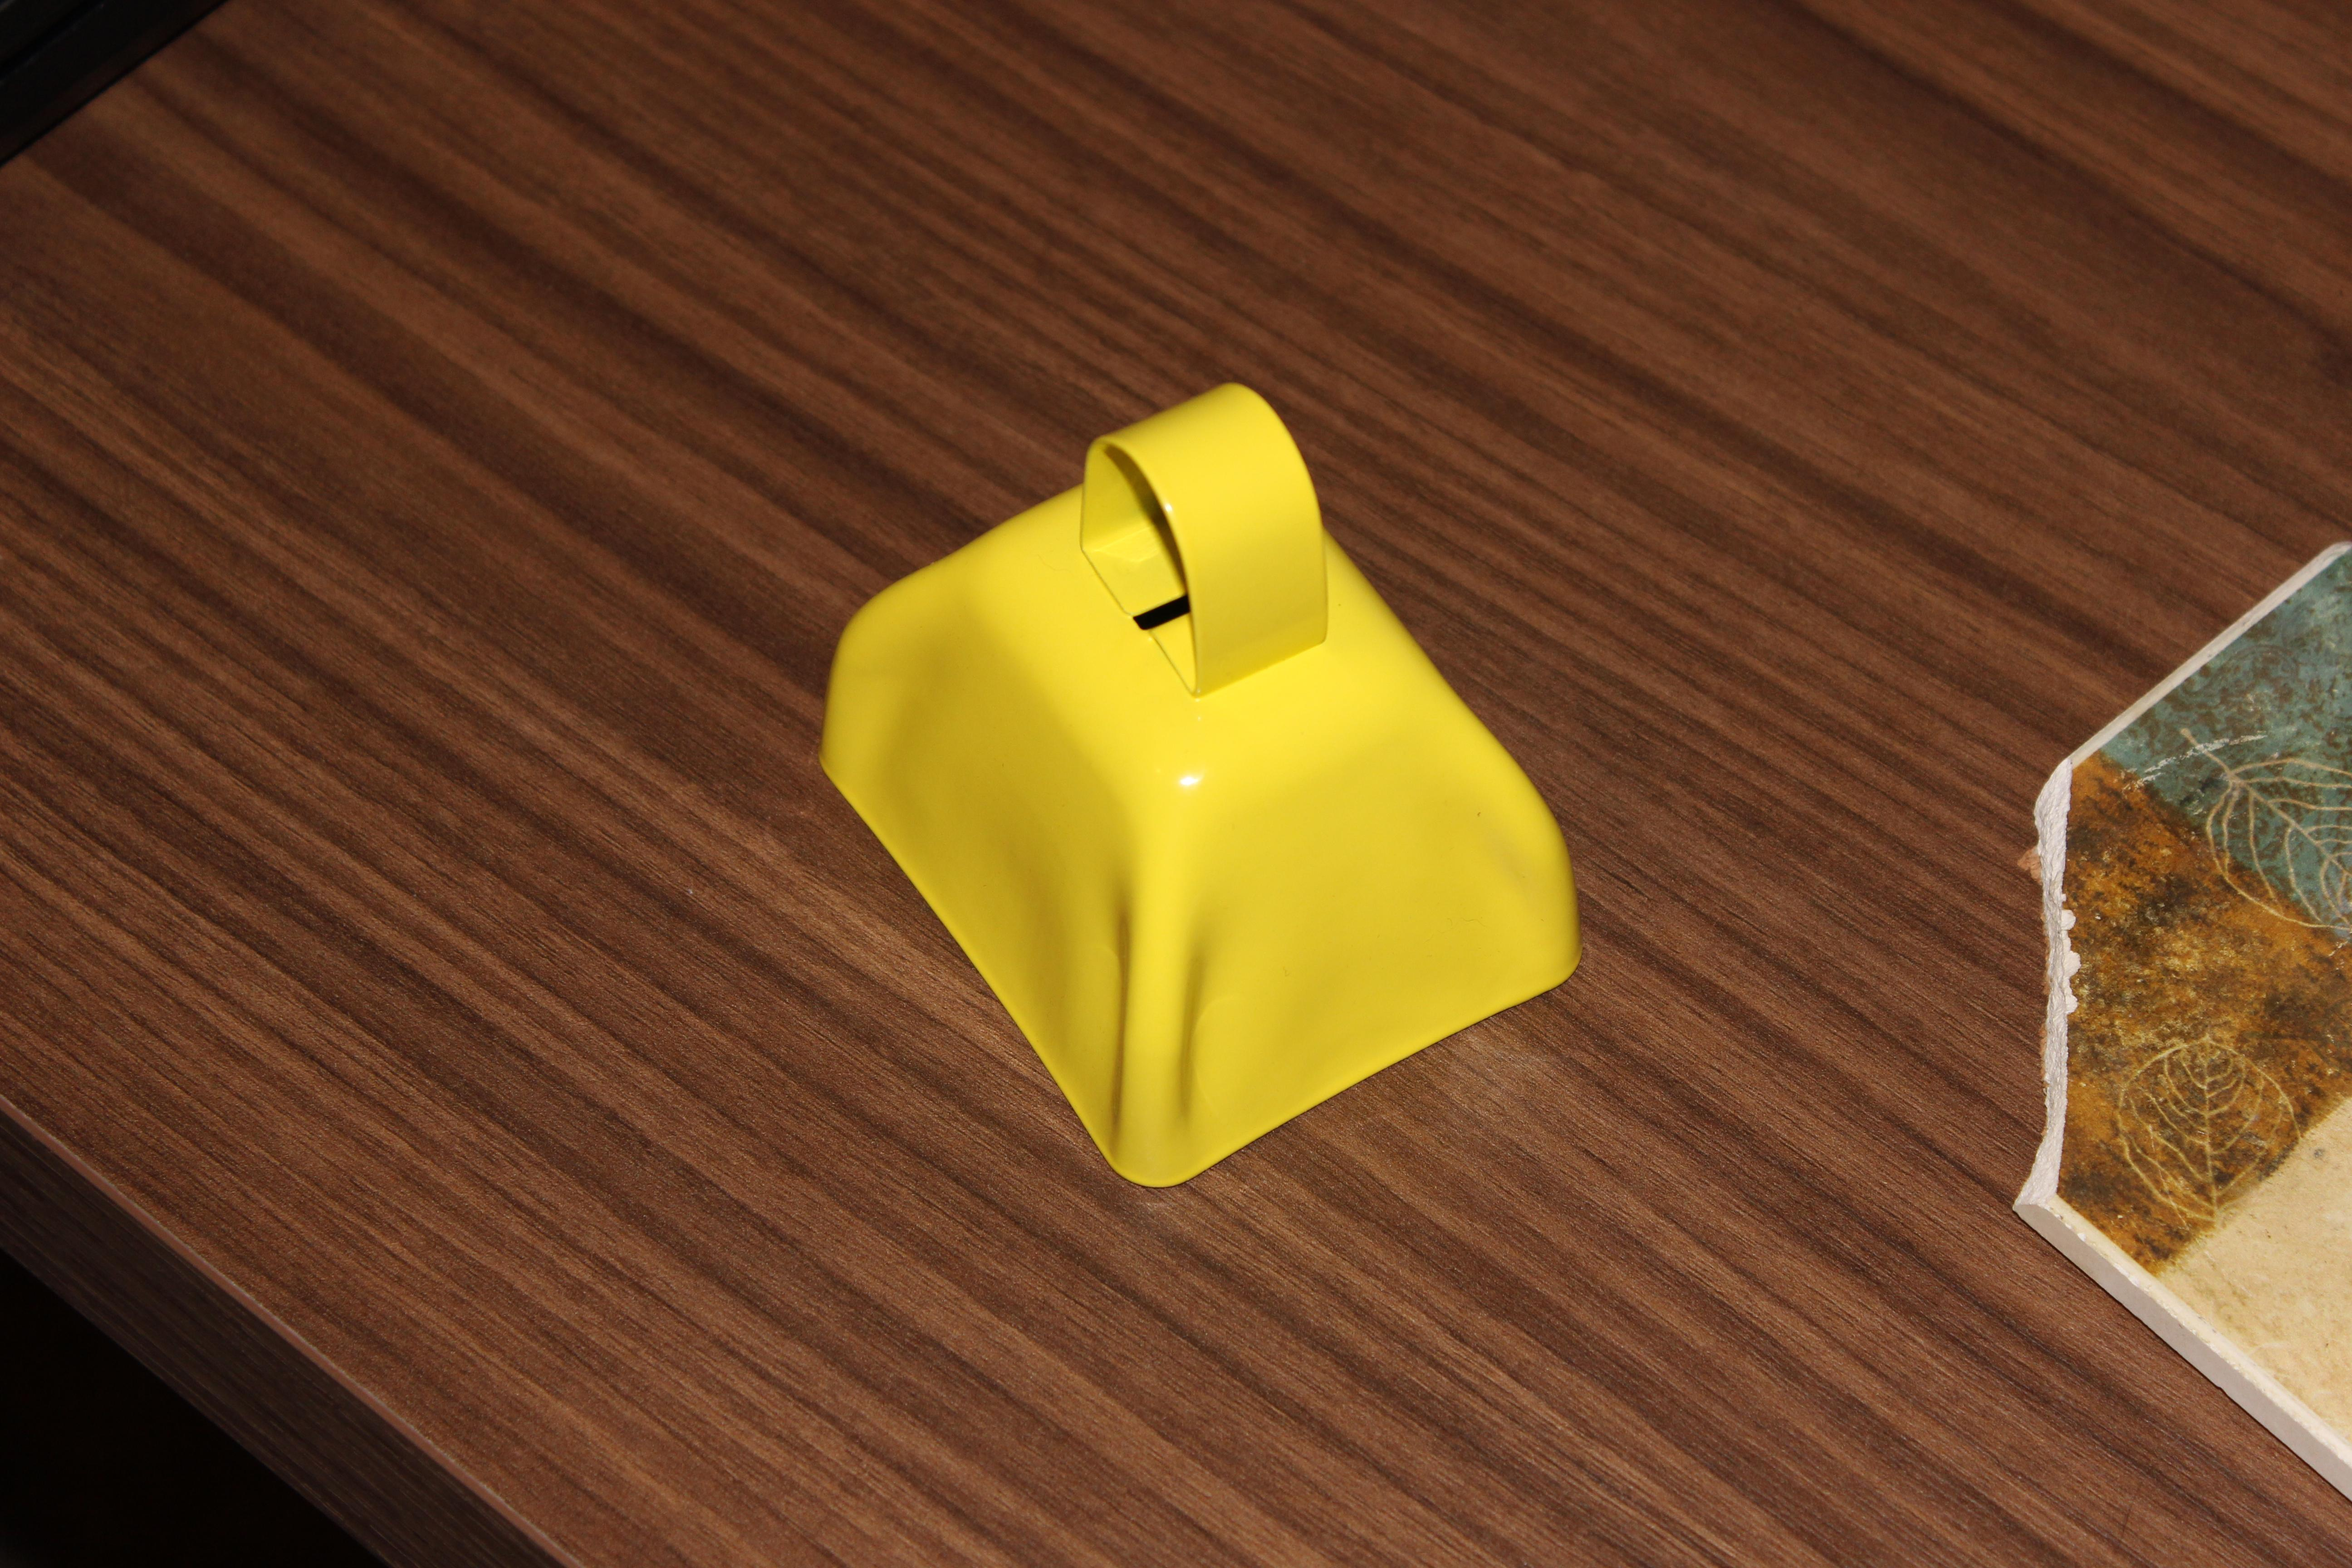cowbell: (780, 345, 1634, 1211)
